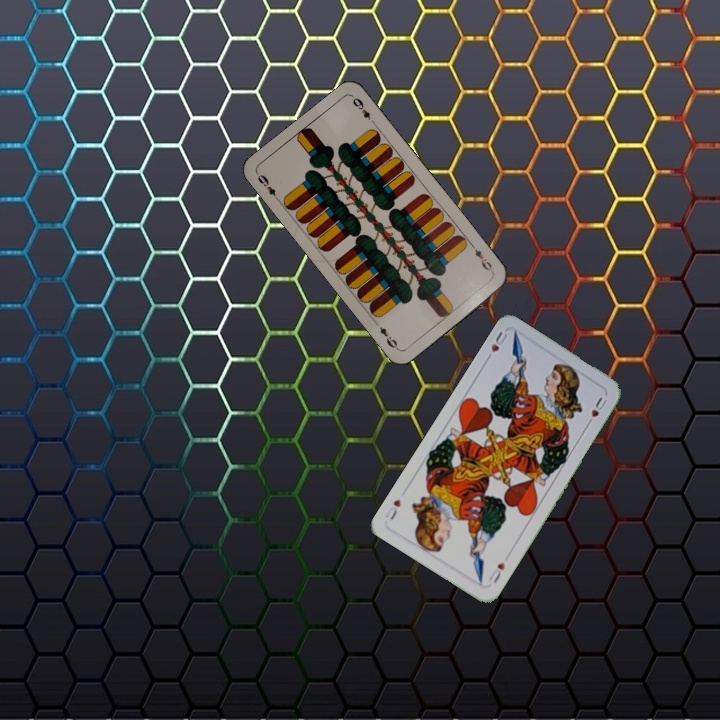E9: (467, 240, 496, 275), (253, 170, 282, 204)
HU: (482, 327, 510, 363), (485, 558, 508, 585)
